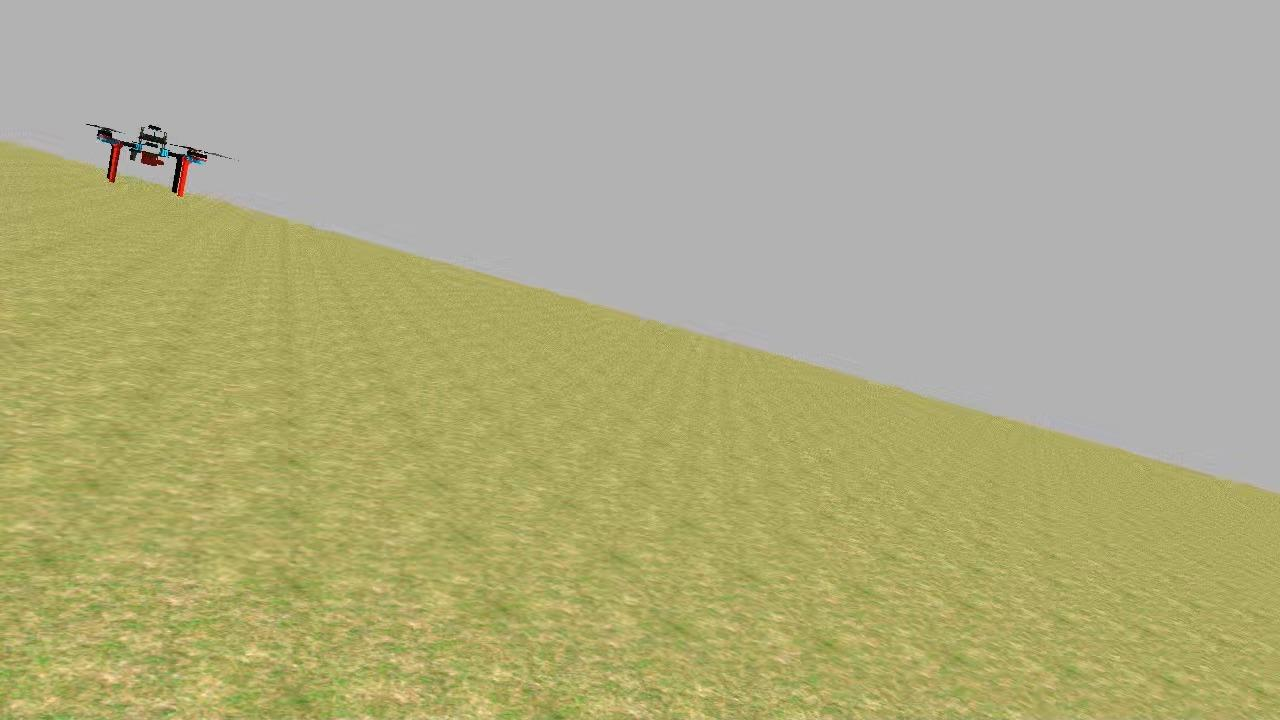UAV: (78, 112, 220, 210)
